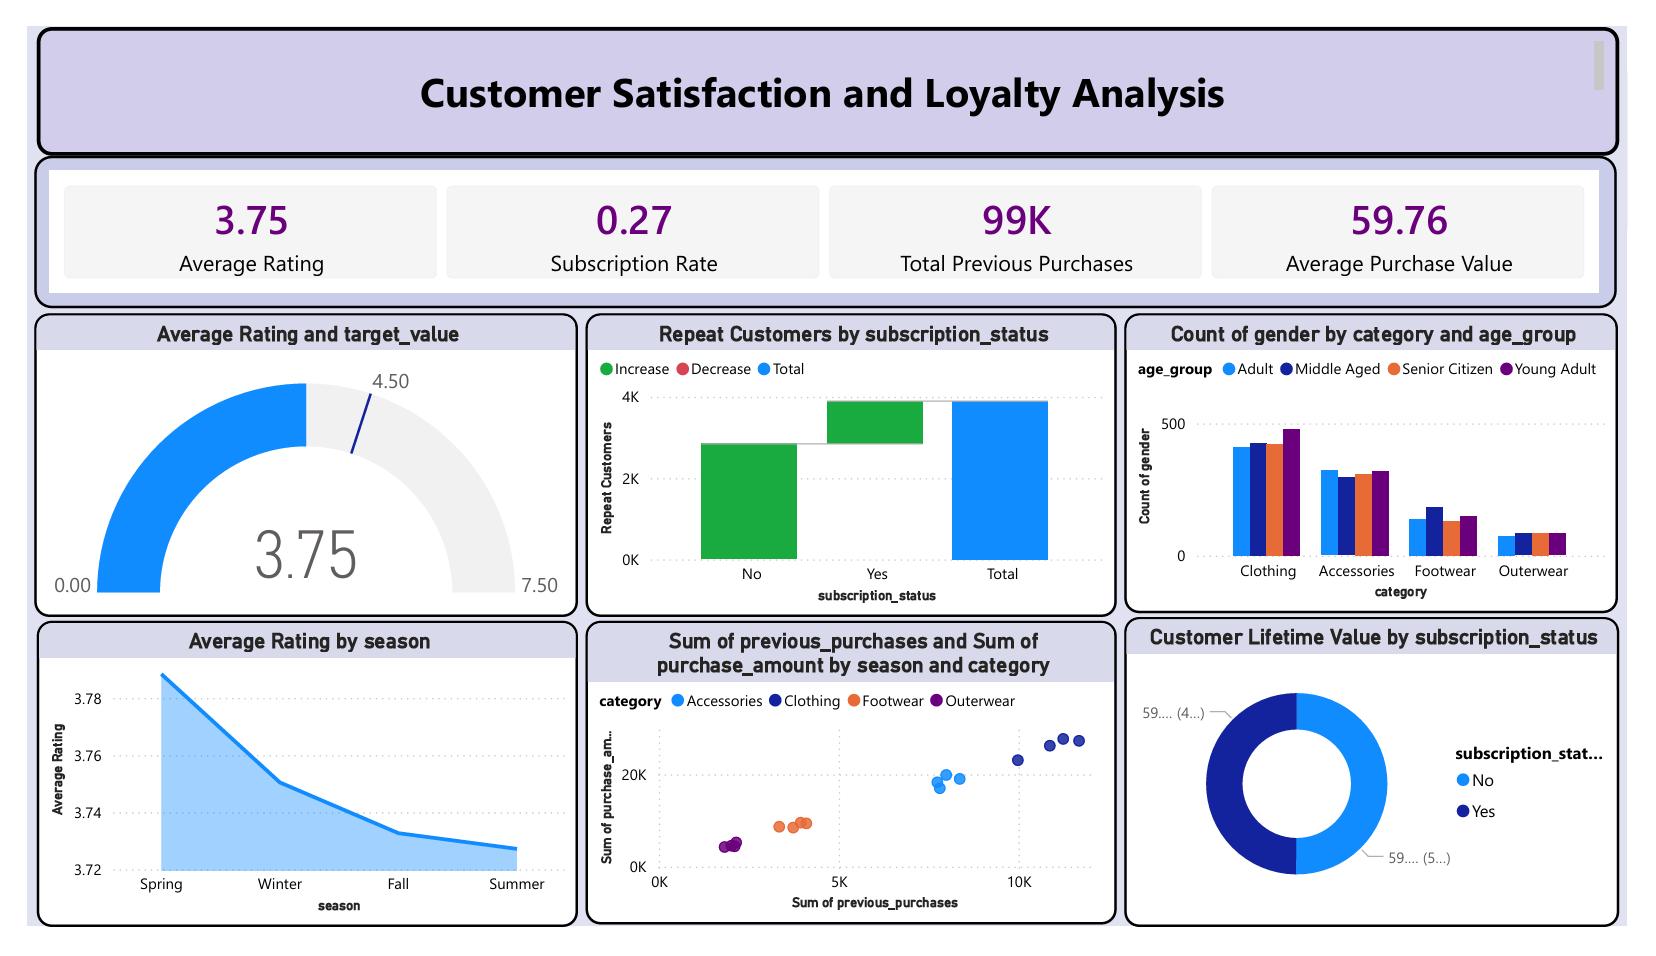

The page's visual inventory and layout, read from the dashboard file:
{"tool":"powerbi","page":{"name":"Customer Satisfaction and Loyalty Analysis","canvas":[1280,720],"ordinal":3},"visuals":[{"type":"textbox","box":[6.7,0,1266.7,103.3],"z":0},{"type":"cardVisual","fields":{"Data":["CustomerAnalysis.Average Rating","CustomerAnalysis.Subscription Rate","CustomerAnalysis.Total Previous Purchases","CustomerAnalysis.Average Purchase Value"]},"box":[5.5,102.9,1266,122],"z":1000},{"type":"stackedAreaChart","fields":{"Category":["CustomerAnalysis.season"],"Y":["CustomerAnalysis.Average Rating"]},"box":[6.9,474.8,433.6,245.6],"z":2000},{"type":"waterfallChart","fields":{"Y":["CustomerAnalysis.Repeat Customers"],"Category":["CustomerAnalysis.subscription_status"]},"box":[446,229.2,425.4,242.9],"z":3000},{"type":"gauge","fields":{"Y":["CustomerAnalysis.Average Rating"],"TargetValue":["CustomerAnalysis.target_value"]},"box":[5.5,229.2,435,242.9],"z":4000},{"type":"donutChart","fields":{"Category":["CustomerAnalysis.subscription_status"],"Y":["CustomerAnalysis.Customer Lifetime Value"]},"box":[876.8,472,396.6,248.4],"z":5000},{"type":"clusteredColumnChart","fields":{"Y":["CountNonNull(CustomerAnalysis.gender)"],"Category":["CustomerAnalysis.category"],"Series":["CustomerAnalysis.age_group"]},"box":[876.8,229.2,395.2,240.1],"z":6000},{"type":"scatterChart","fields":{"Category":["CustomerAnalysis.season"],"Series":["CustomerAnalysis.category"],"X":["Sum(CustomerAnalysis.previous_purchases)"],"Y":["Sum(CustomerAnalysis.purchase_amount)"]},"box":[446,474.8,425.4,242.9],"z":7000}]}

Visuals, with their boxes in screenshot pixels (x1, y1, x2, y2), scaled from the page's 1280x720 canvas onto the 1656x956 screenshot:
textbox: box=[9, 0, 1647, 137]
cardVisual - CustomerAnalysis.Average Rating x CustomerAnalysis.Subscription Rate: box=[7, 137, 1645, 299]
stackedAreaChart - CustomerAnalysis.season x CustomerAnalysis.Average Rating: box=[9, 630, 570, 955]
waterfallChart - CustomerAnalysis.Repeat Customers x CustomerAnalysis.subscription_status: box=[577, 304, 1127, 627]
gauge - CustomerAnalysis.Average Rating x CustomerAnalysis.target_value: box=[7, 304, 570, 627]
donutChart - CustomerAnalysis.subscription_status x CustomerAnalysis.Customer Lifetime Value: box=[1134, 627, 1647, 955]
clusteredColumnChart - CountNonNull(CustomerAnalysis.gender) x CustomerAnalysis.category: box=[1134, 304, 1646, 623]
scatterChart - CustomerAnalysis.season x CustomerAnalysis.category: box=[577, 630, 1127, 953]
